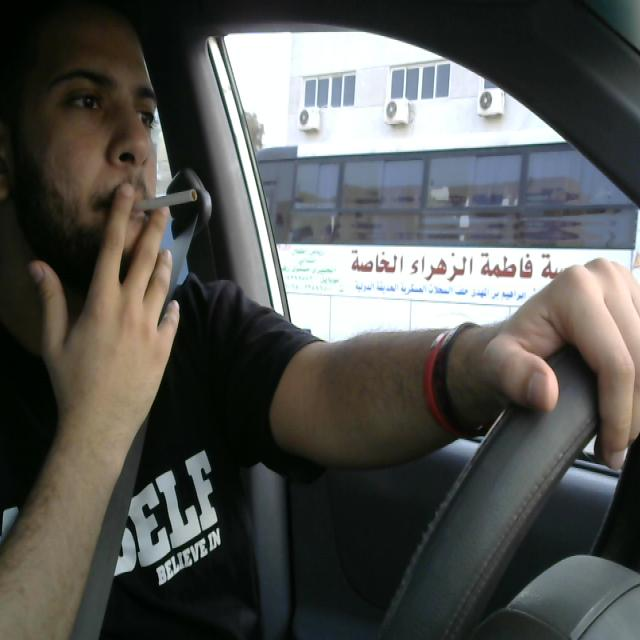smoking: (123, 183, 200, 209)
